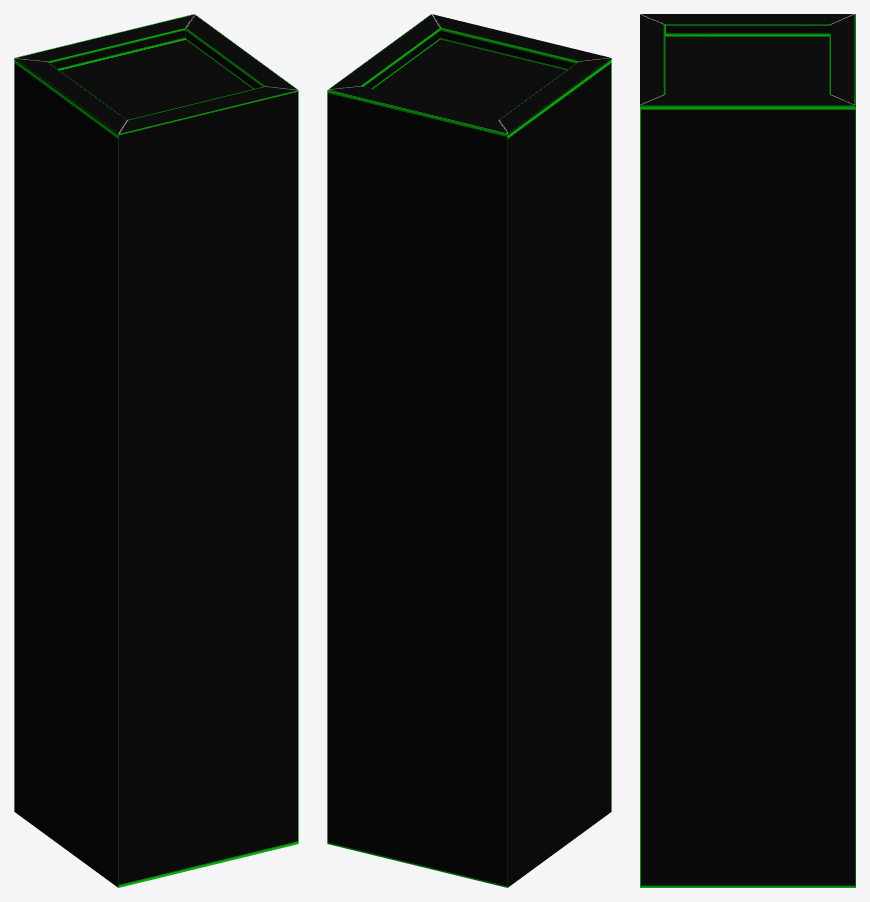
File: Building.fbx
3 views of the same model, side by side, from view 1: azimuth 30°, elevation 25°; view 2: azimuth 150°, elevation 25°; view 3: azimuth 270°, elevation 25° (orthographic). The views are drawn at different scales.
Parts seen in each view (by area): view 1: Building; view 2: Building; view 3: Building.
Part boxes in pixels (bbox=[...]): Building: bbox=[14, 14, 298, 887]; Building: bbox=[327, 14, 611, 887]; Building: bbox=[640, 14, 855, 887].
Size of what is drawn, in the model's own units: 1 by 4 by 1.
1 material, 1 textured.
